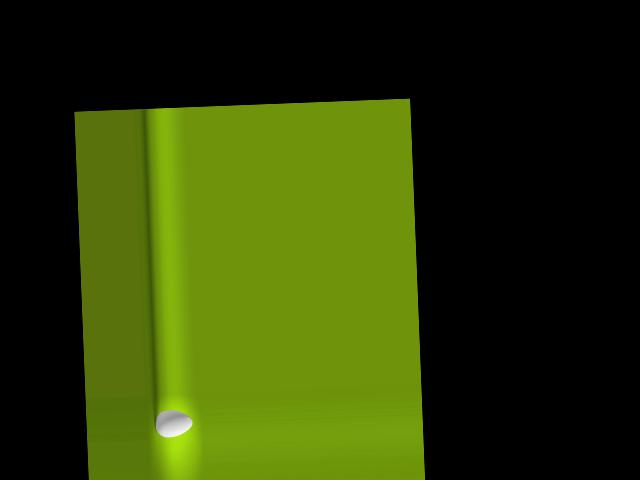egg: (154, 409, 193, 437)
